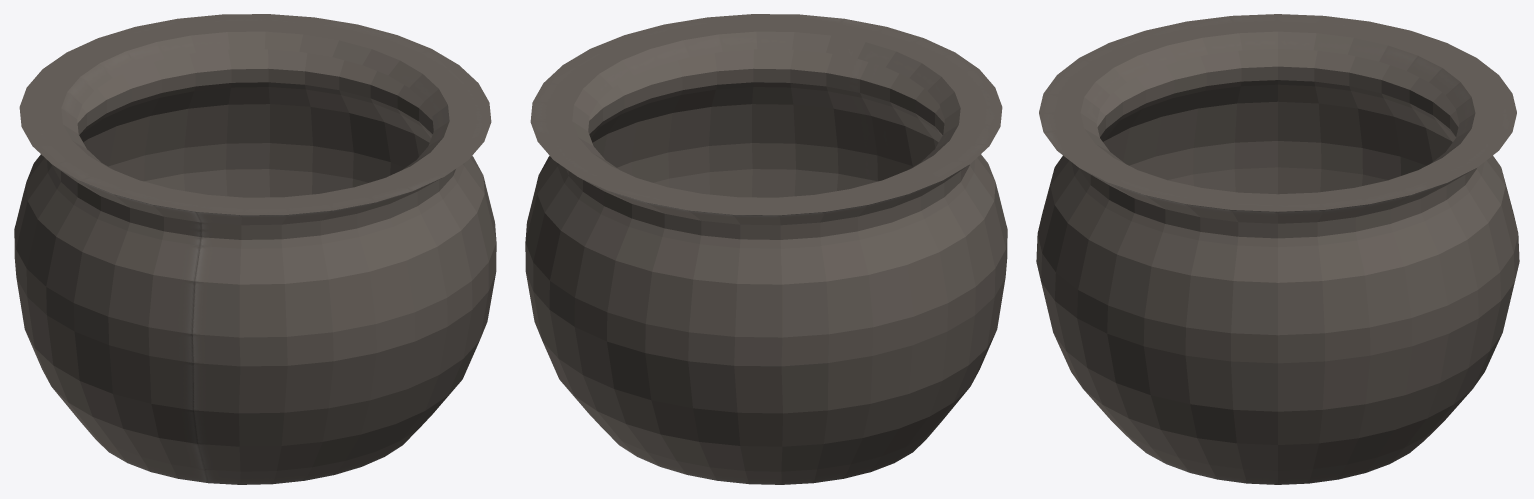
Rendered from JBayer_Cauldron.fbx.
3 renders of one model, left to right at view 1: azimuth 30°, elevation 25°; view 2: azimuth 150°, elevation 25°; view 3: azimuth 270°, elevation 25°, orthographic.
Parts seen in each view (by area): view 1: Cauldron; view 2: Cauldron; view 3: Cauldron.
Boxes of the visible parts, x1,y1,x2,y2 form: Cauldron: [14, 14, 496, 484]; Cauldron: [525, 14, 1007, 484]; Cauldron: [1036, 14, 1519, 484].
Size of the model in its own units: 75.15 by 56.25 by 75.43.
Materials: 1 (1 with a texture image).
